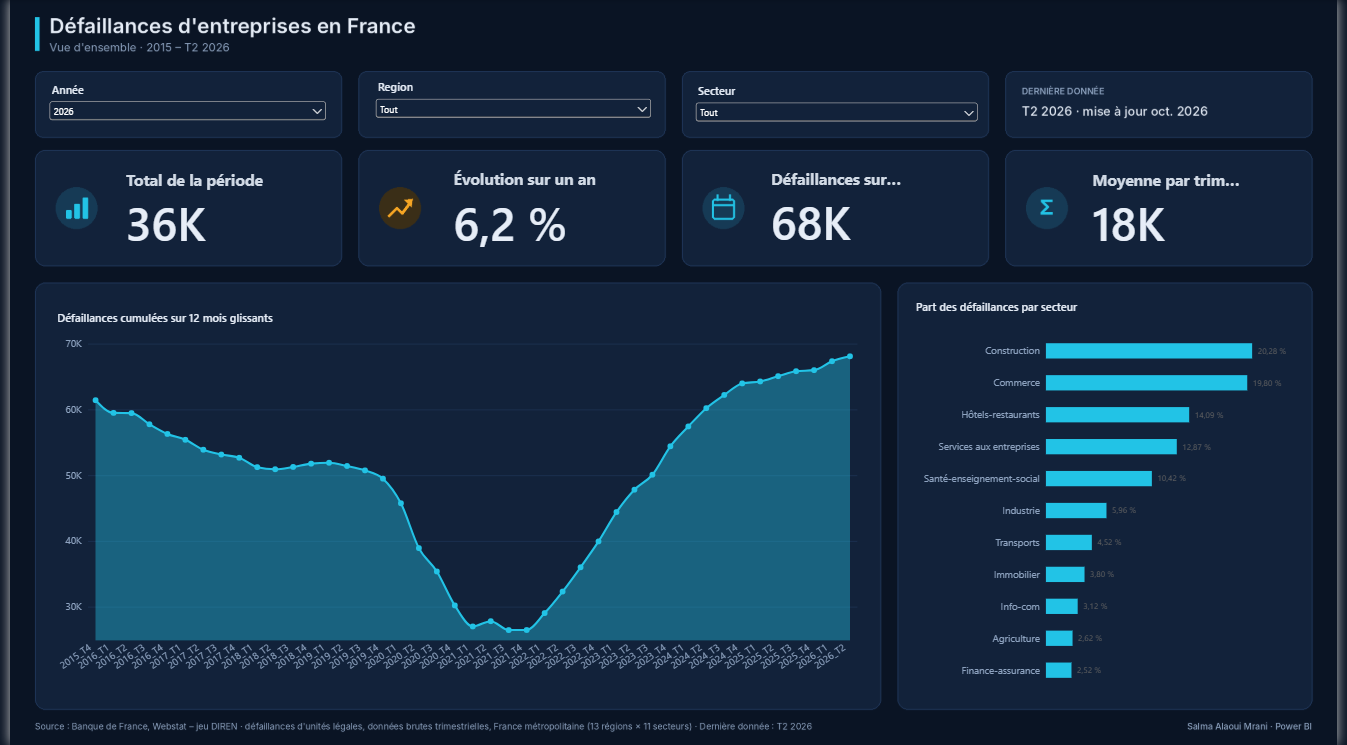

This screenshot's page, from the dashboard's own definition file:
{"tool":"powerbi","page":{"name":"Vue d'ensemble","canvas":[1920,1080],"ordinal":1},"visuals":[{"type":"slicer","fields":{"Values":["Dim_Date.Annee"]},"box":[52,120,410,70],"z":0},{"type":"slicer","fields":{"Values":["Dim_Region.Region"]},"box":[524,116,408,74],"z":1000},{"type":"slicer","fields":{"Values":["Dim_Secteur.Secteur_court"]},"box":[988,122,418,68],"z":2000},{"type":"cardVisual","fields":{"Data":["Faits_Defaillances.Evolution N-1 %"]},"box":[626,230,278,154],"z":3000},{"type":"cardVisual","fields":{"Data":["Faits_Defaillances.Moyenne par trimestre"]},"box":[1550,222,256,168],"z":4000},{"type":"cardVisual","fields":{"Data":["Faits_Defaillances.Total Defaillances"]},"box":[152,232,290,152],"z":5000},{"type":"lineChart","title":"Défaillances cumulées sur 12 mois glissants","fields":{"Category":["Dim_Date.Annee_Trimestre"],"Y":["Faits_Defaillances.Cumul 12 mois"]},"box":[52,436,1190,568],"z":6000},{"type":"clusteredBarChart","title":"Part des défaillances par secteur","fields":{"Category":["Dim_Secteur.Secteur_court"],"Y":["Faits_Defaillances.Part du total %"]},"box":[1296,420,588,598],"z":7000},{"type":"cardVisual","fields":{"Data":["Faits_Defaillances.Cumul 12 mois"]},"box":[1086,230,224,152],"z":8000}]}

Visuals, with their boxes in screenshot pixels (x1, y1, x2, y2), scaled from the page's 1920x1080 canvas onto the 1347x745 screenshot:
slicer - Dim_Date.Annee: (x1=36, y1=83, x2=324, y2=131)
slicer - Dim_Region.Region: (x1=368, y1=80, x2=654, y2=131)
slicer - Dim_Secteur.Secteur_court: (x1=693, y1=84, x2=986, y2=131)
cardVisual - Faits_Defaillances.Evolution N-1 %: (x1=439, y1=159, x2=634, y2=265)
cardVisual - Faits_Defaillances.Moyenne par trimestre: (x1=1087, y1=153, x2=1267, y2=269)
cardVisual - Faits_Defaillances.Total Defaillances: (x1=107, y1=160, x2=310, y2=265)
"Défaillances cumulées sur 12 mois glissants" lineChart: (x1=36, y1=301, x2=871, y2=693)
"Part des défaillances par secteur" clusteredBarChart: (x1=909, y1=290, x2=1322, y2=702)
cardVisual - Faits_Defaillances.Cumul 12 mois: (x1=762, y1=159, x2=919, y2=264)
